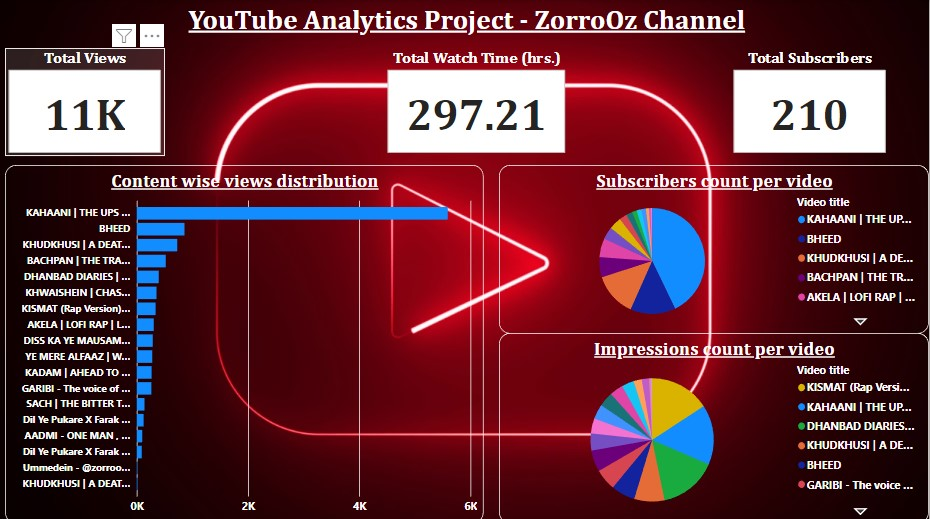

The page's visual inventory and layout, read from the dashboard file:
{"tool":"powerbi","page":{"name":"Content ","canvas":[1280,720],"ordinal":0},"visuals":[{"type":"textbox","box":[10.1,0,1269.9,65.4],"z":0},{"type":"cardVisual","title":"Total Views","fields":{"Data":["Sum(Content.Views)"]},"box":[10.1,65.4,219.8,149.3],"z":1000},{"type":"cardVisual","title":"Total Watch Time (hrs.)","fields":{"Data":["Sum(Content.Watch time (hours))"]},"box":[530.1,65.4,255,149.3],"z":2000},{"type":"cardVisual","title":"Total Subscribers","fields":{"Data":["Sum(Content.Subscribers)"]},"box":[1006.6,65.4,219.8,149.3],"z":3000},{"type":"barChart","title":"Content wise views distribution","fields":{"Category":["Content.Video title"],"Y":["Sum(Content.Views)"]},"box":[10.1,226.5,657.6,493.2],"z":4000},{"type":"pieChart","title":"Subscribers count per video","fields":{"Category":["Content.Video title"],"Y":["Sum(Content.Subscribers)"]},"box":[689.5,226.5,590.5,231.5],"z":5000},{"type":"pieChart","title":"Impressions count per video","fields":{"Category":["Content.Video title"],"Y":["Sum(Content.Impressions)"]},"box":[689.5,458,590.5,261.7],"z":6000}]}

Visuals, with their boxes in screenshot pixels (x1, y1, x2, y2), scaled from the page's 1280x720 canvas onto the 930x519 screenshot:
textbox: (7, 0, 929, 47)
"Total Views" cardVisual: (7, 47, 167, 155)
"Total Watch Time (hrs.)" cardVisual: (385, 47, 570, 155)
"Total Subscribers" cardVisual: (731, 47, 891, 155)
"Content wise views distribution" barChart: (7, 163, 485, 518)
"Subscribers count per video" pieChart: (501, 163, 929, 330)
"Impressions count per video" pieChart: (501, 330, 929, 518)
